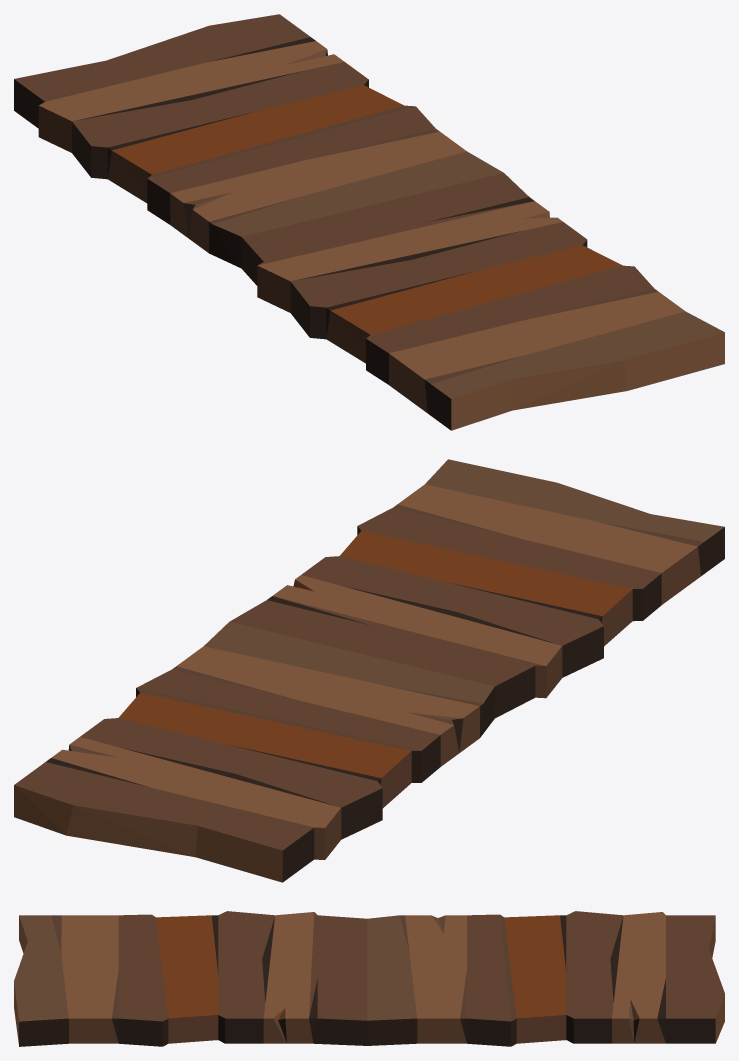
File: itch_fishing_village_platfrom3.glb
3 renders of one model, top to bottom at view 1: azimuth 30°, elevation 25°; view 2: azimuth 150°, elevation 25°; view 3: azimuth 270°, elevation 25°, orthographic. The views are drawn at different scales.
Parts seen in each view (by area): view 1: platfrom3.001; view 2: platfrom3.001; view 3: platfrom3.001.
Boxes of the visible parts, box(x1,y1,x2,y2) form: platfrom3.001: box(14, 14, 724, 430); platfrom3.001: box(14, 459, 724, 882); platfrom3.001: box(14, 911, 724, 1046).
Size of the model in its own units: 0.4343 by 0.0463 by 1.18.
